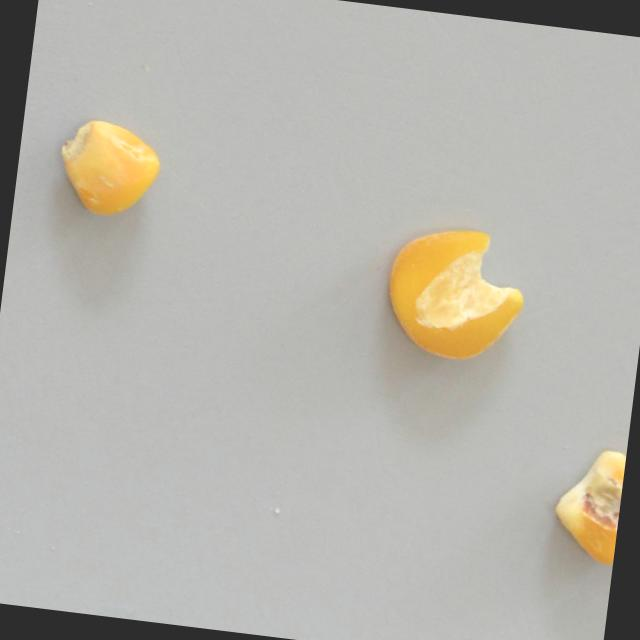dañado: (543, 441, 627, 569)
pelicula: (376, 220, 532, 370), (48, 113, 165, 222)
